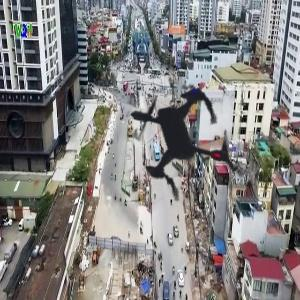drone: (58, 22, 296, 260)
